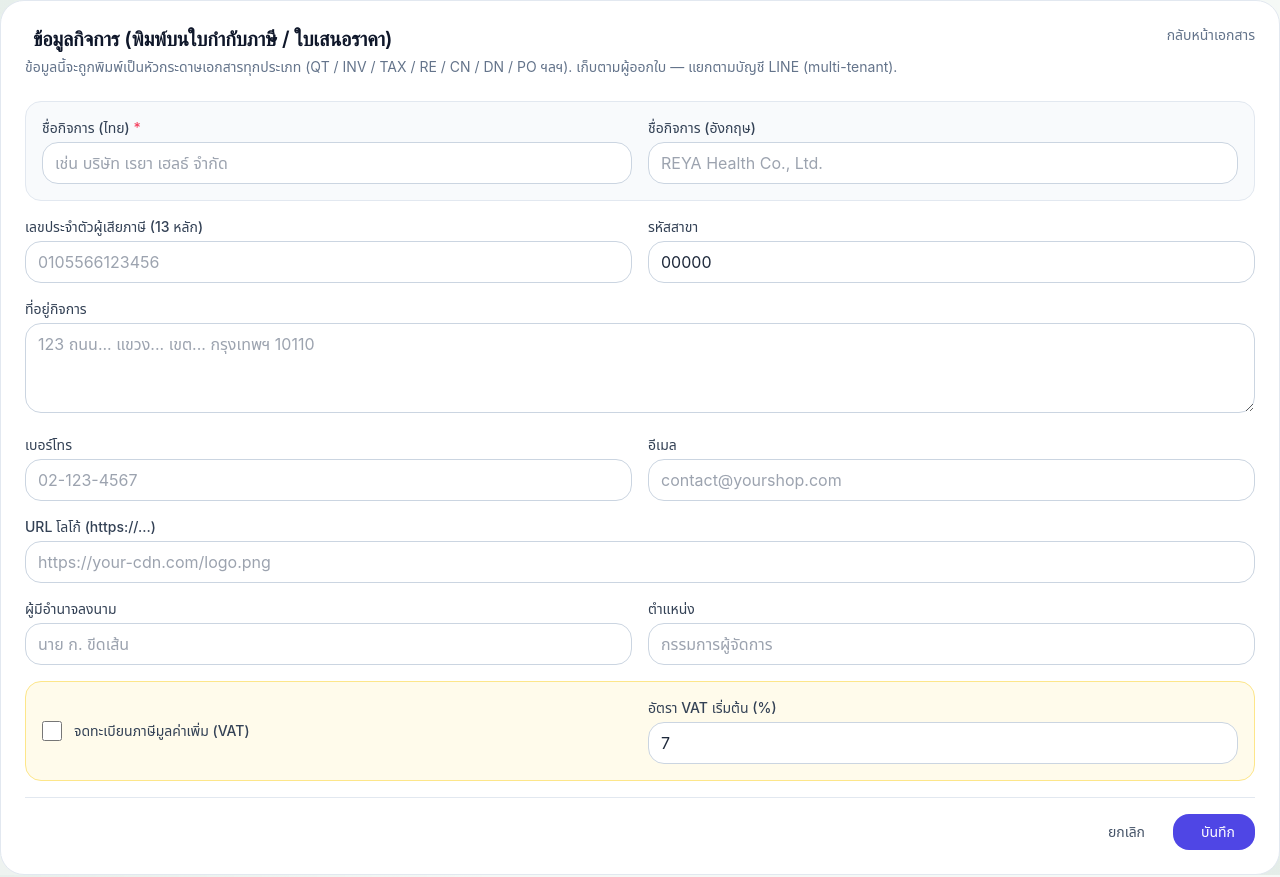
Test: ShopTaxTab — submit › shows the success banner (showAlert("ok", ...) equivalent) on success, no navigation
The width and height of the screenshot is (1280, 877).
Type "ร้านยา ทดสอบ" into the field with placeholder "เช่น บริษัท เรยา เฮลธ์ จำกัด" at (337, 163), box [42, 142, 632, 184]
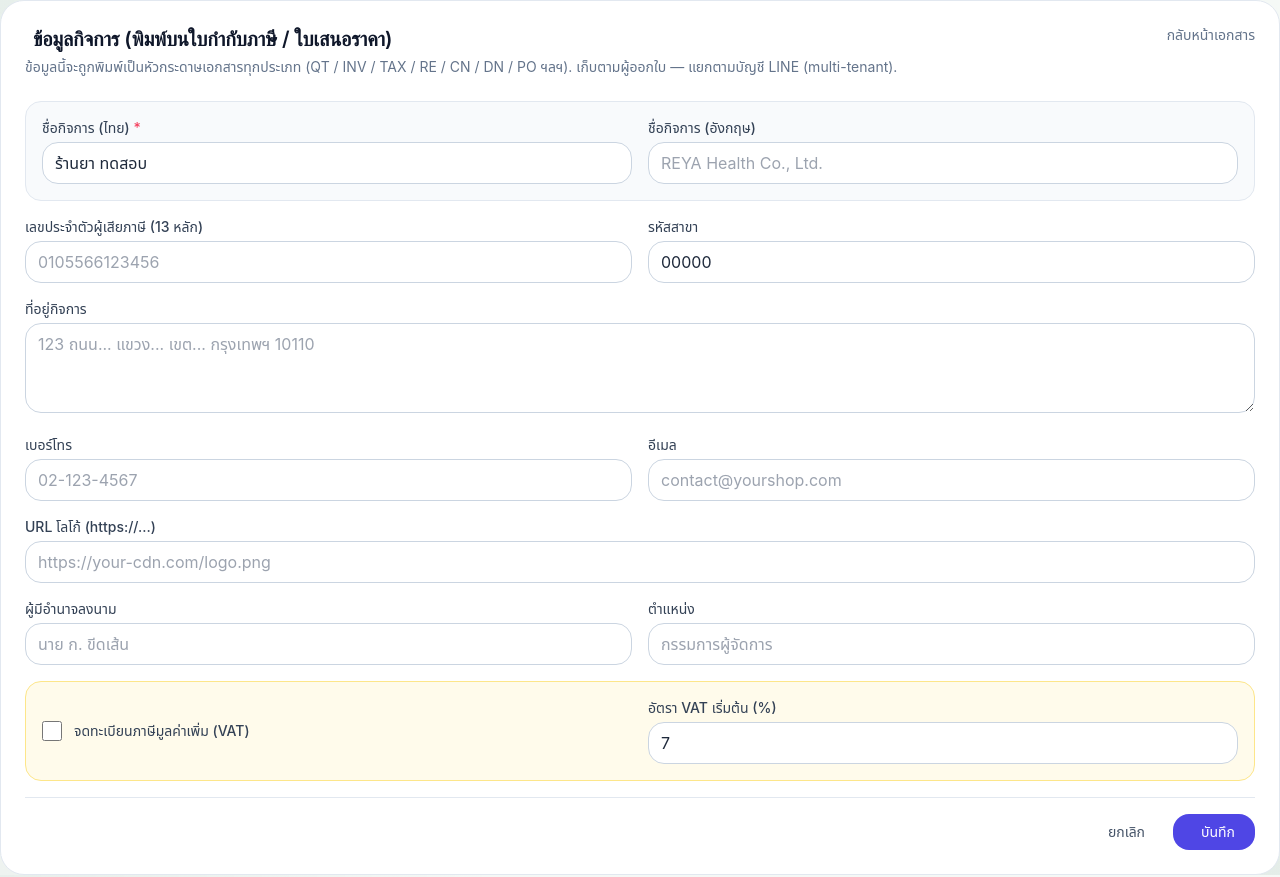
Click the button "บันทึก" at (1214, 832), box [1173, 814, 1255, 850]
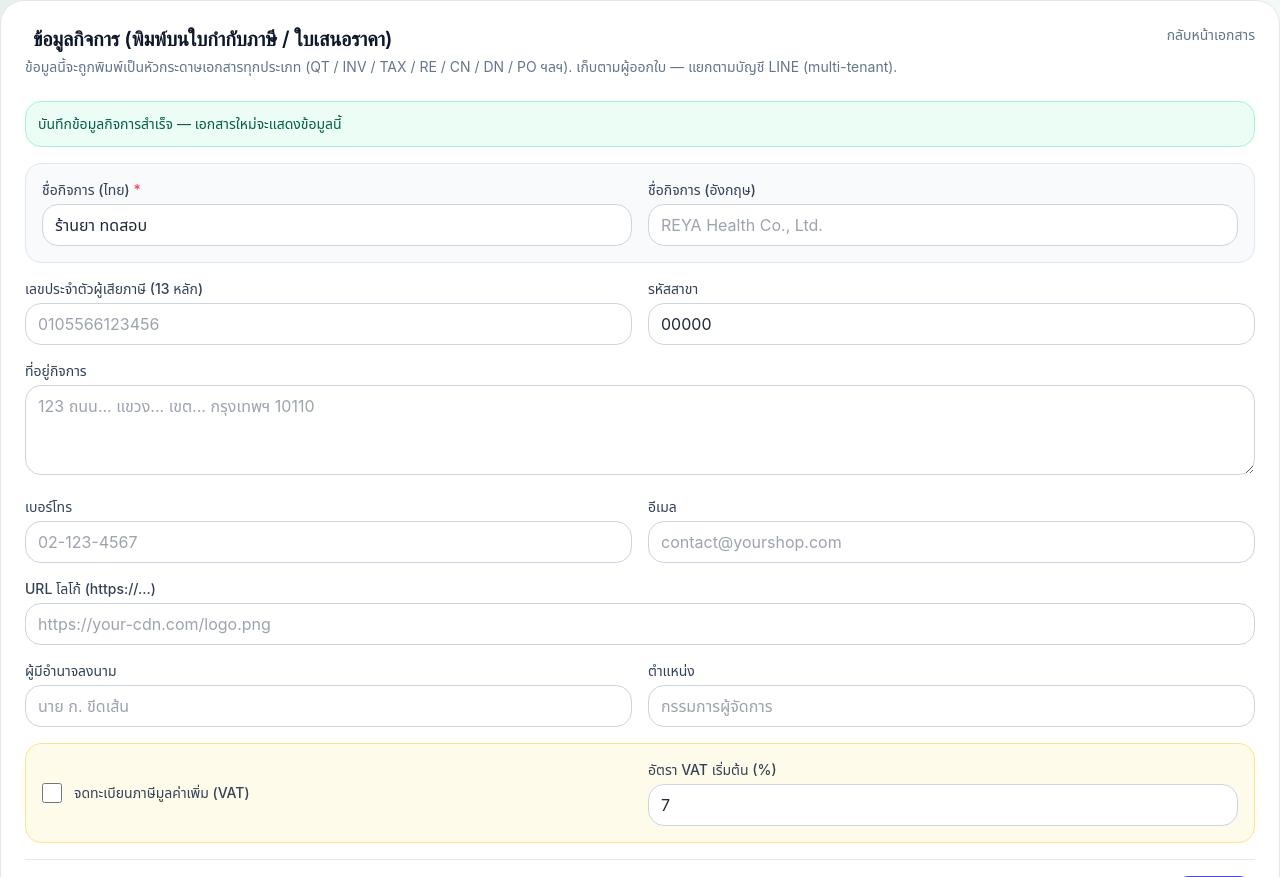
Check: the message reads "บันทึกข้อมูลกิจการสำเร็จ — เอกสารใหม่จะแสดงข้อมูลนี้", box [38, 115, 342, 132]
